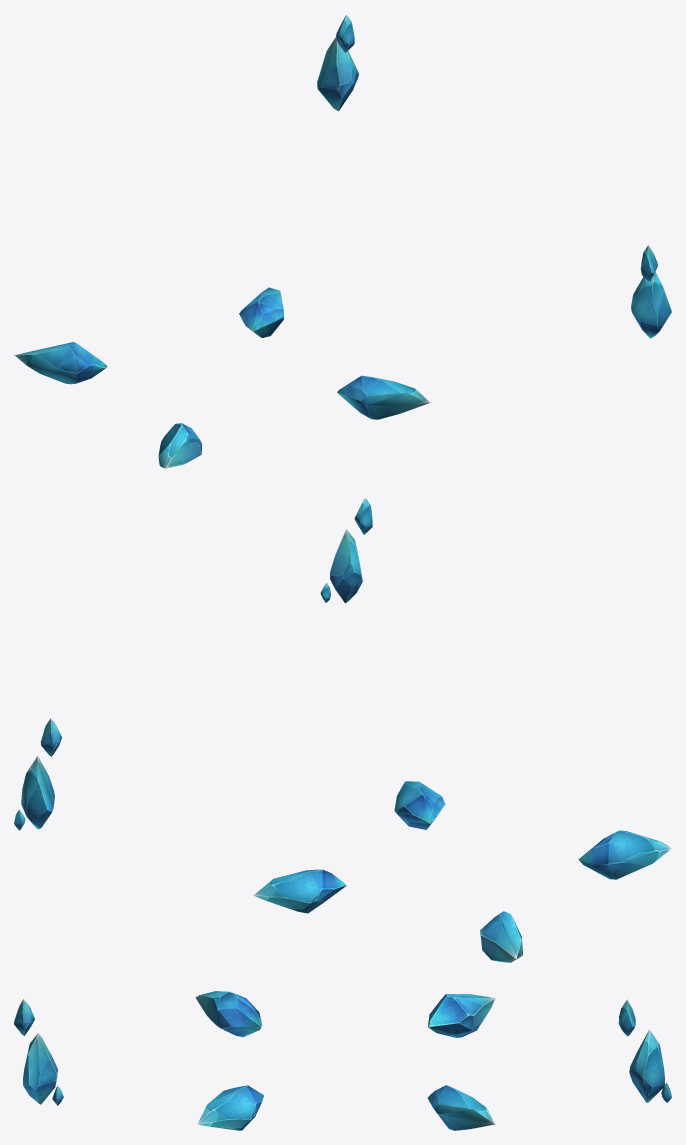
File: xinshoubujian4.FBX
3 renders of one model, top to bottom at view 1: azimuth 30°, elevation 25°; view 2: azimuth 150°, elevation 25°; view 3: azimuth 270°, elevation 25°, orthographic. The views are drawn at different scales.
Visible parts, largest first — view 1: Mesh_0076; view 2: Mesh_0076; view 3: Mesh_0076.
Boxes of the visible parts, x1,y1,x2,y2 form: Mesh_0076: [14, 14, 671, 468]; Mesh_0076: [14, 497, 671, 962]; Mesh_0076: [14, 991, 671, 1130].
Bounding box in the file's own units: 26.47 × 13 × 36.41.
Materials: 1 (1 with a texture image).
